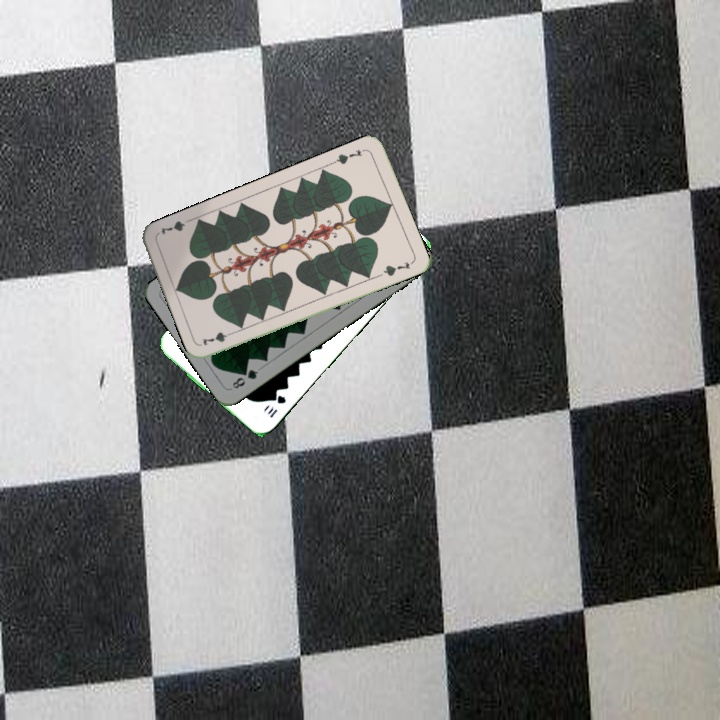G10: (262, 391, 288, 421)
G7: (198, 327, 239, 348), (329, 145, 368, 167)
G8: (227, 365, 261, 391)
